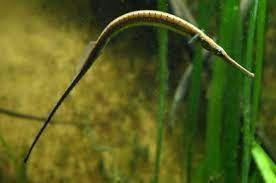Long-Snouted Pipefish: (22, 8, 257, 164)
